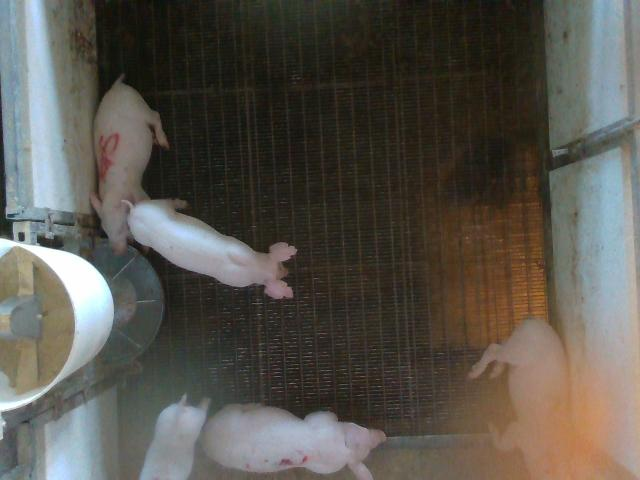pig-2: (469, 316, 572, 479)
pig-3: (200, 404, 386, 479)
pig-5: (90, 74, 169, 254)
